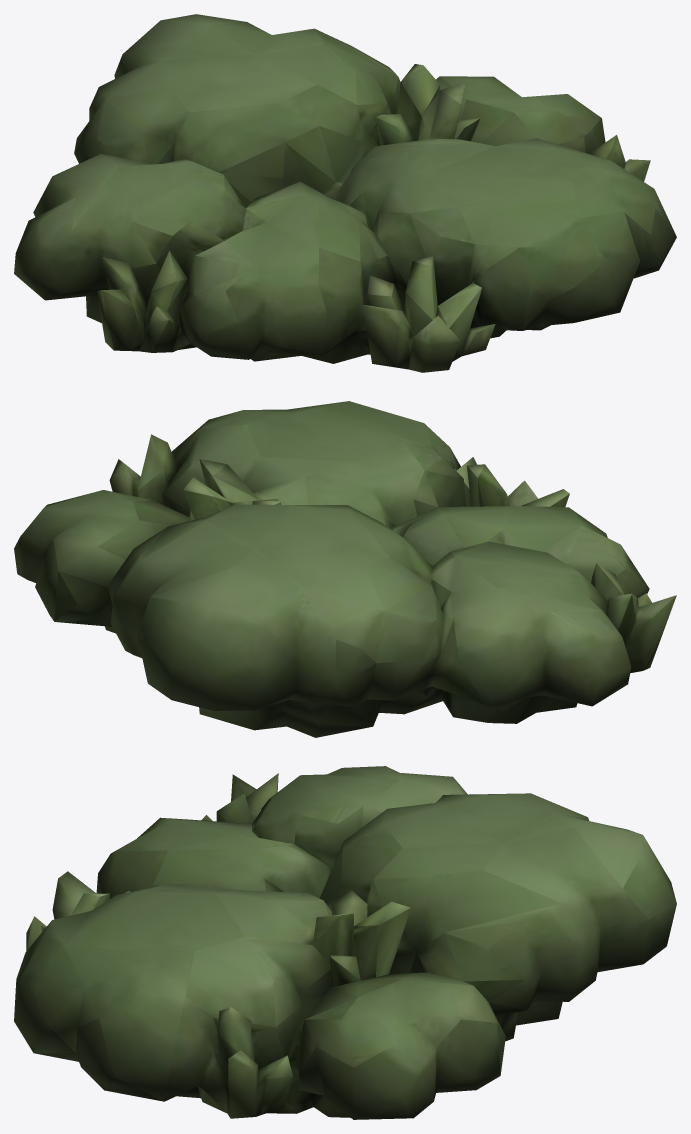
The model's file is fence_bamboo.glb.
The picture shows the model from 3 angles, top to bottom: view 1: azimuth 30°, elevation 25°; view 2: azimuth 150°, elevation 25°; view 3: azimuth 270°, elevation 25°; orthographic projection. The views are drawn at different scales.
Visible parts, largest first — view 1: tripo_node_62666d4a-d77b-4281-b52e-eec506c63123; view 2: tripo_node_62666d4a-d77b-4281-b52e-eec506c63123; view 3: tripo_node_62666d4a-d77b-4281-b52e-eec506c63123.
Part boxes in pixels (<box>): tripo_node_62666d4a-d77b-4281-b52e-eec506c63123: <box>14,14,676,372</box>; tripo_node_62666d4a-d77b-4281-b52e-eec506c63123: <box>14,401,676,737</box>; tripo_node_62666d4a-d77b-4281-b52e-eec506c63123: <box>14,766,676,1119</box>.
Bounding box in the file's own units: 0.9799 × 0.2704 × 0.9167.
Materials: 1 (1 with a texture image).
